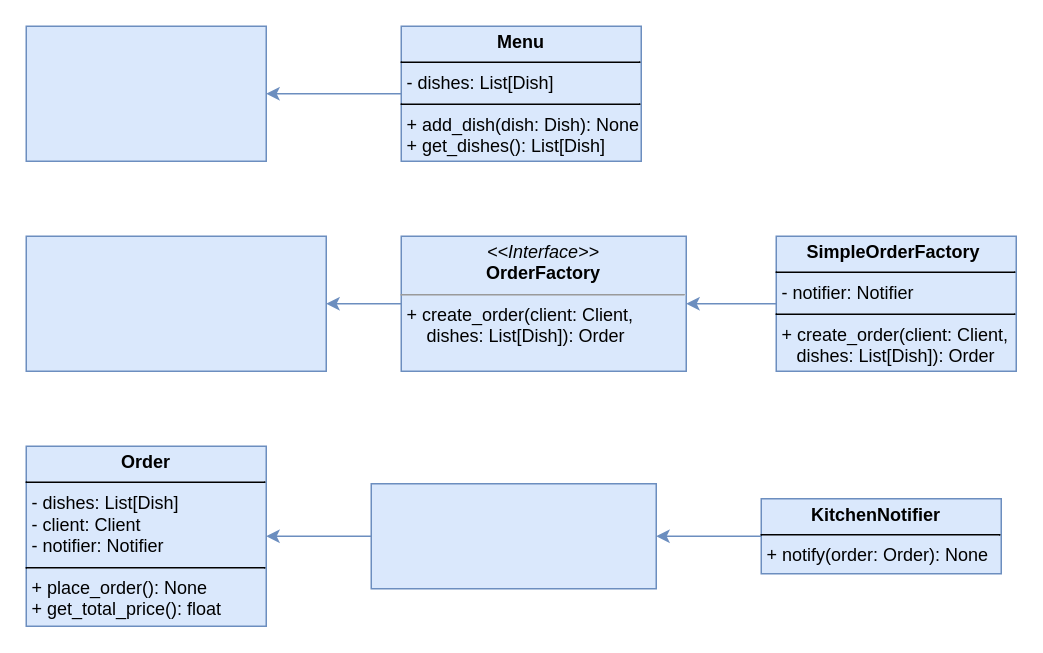
The diagram is 1043 pixels wide and 653 high, and some of its shapes have lost their labels. Each missing label, with the centre of its shape:
"<<Interface>> Notifier + notify(order: Order): None" goes at point (513, 535).
"Client - name: str + make_orderdishes: List[Dish], factory: OrderFactory): Order" goes at point (175, 303).
"Dish - name: str - price: float + get_info(): str" goes at point (145, 93).
